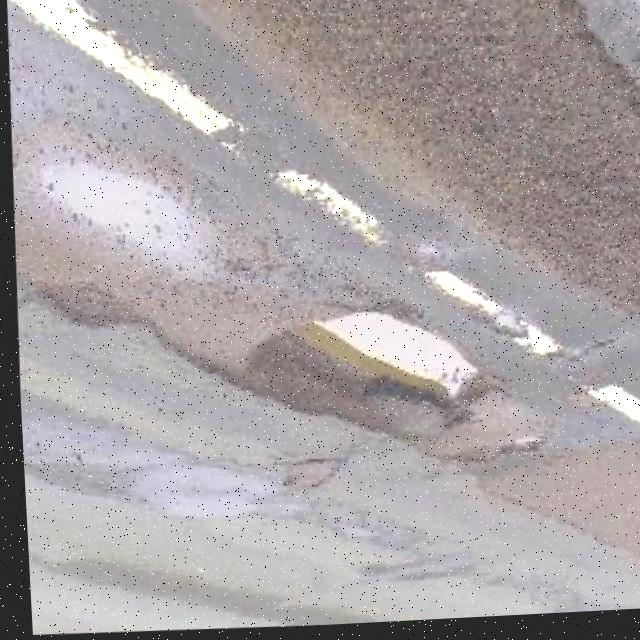Pothole: (239, 298, 497, 452), (35, 270, 132, 337), (494, 437, 541, 468)
